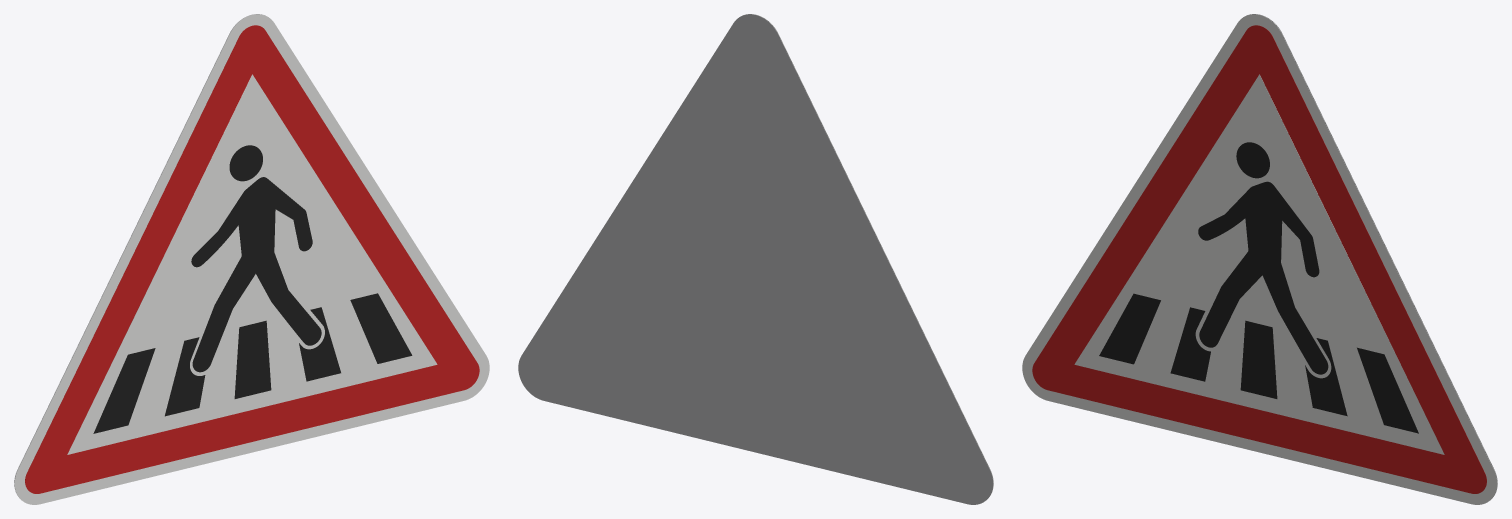
The picture shows the model from 3 angles, left to right: view 1: azimuth 30°, elevation 25°; view 2: azimuth 150°, elevation 25°; view 3: azimuth 330°, elevation 25°; orthographic projection.
Parts seen in each view (by area): view 1: A13b_p02, A13b_p01, A13b_p00, A13b_p04, A13b_p07, A13b_p09, A13b_p05, A13b_p08, A13b_p06, A13b_p03, A13b_dos; view 2: A13b_dos, A13b_p00; view 3: A13b_p02, A13b_p01, A13b_p00, A13b_p04, A13b_p07, A13b_p05, A13b_p09, A13b_p08, A13b_p06, A13b_p03, A13b_dos.
Boxes of the visible parts, x1,y1,x2,y2 form: A13b_p02: (67,74,437,454); A13b_p01: (25,25,479,493); A13b_p00: (14,14,489,504); A13b_p04: (191,177,321,372); A13b_p07: (234,320,271,398); A13b_p09: (93,348,155,433); A13b_p05: (350,293,412,363); A13b_p08: (165,337,205,416); A13b_p06: (299,307,340,381); A13b_p03: (229,145,262,181); A13b_dos: (14,14,265,500); A13b_dos: (518,14,993,504); A13b_p00: (742,14,993,500); A13b_p02: (1074,74,1444,454); A13b_p01: (1032,25,1486,493); A13b_p00: (1022,14,1497,504); A13b_p04: (1198,181,1328,374); A13b_p07: (1240,320,1277,398); A13b_p05: (1357,347,1418,433); A13b_p09: (1099,293,1160,364); A13b_p08: (1170,307,1210,381); A13b_p06: (1305,338,1347,416); A13b_p03: (1236,142,1269,178); A13b_dos: (1246,14,1497,500).
Bounding box in the file's own units: 1 × 0.8803 × 0.0055.
